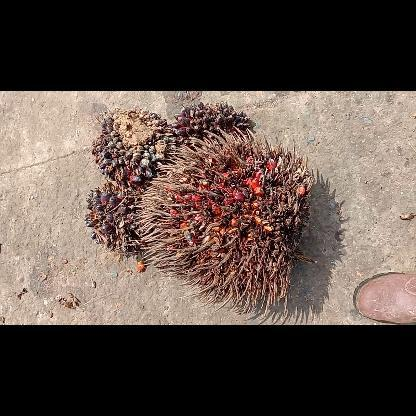TBS abnormal: (90, 104, 174, 190), (84, 180, 150, 260), (169, 100, 252, 142)
Terlalu masak: (132, 128, 314, 314)
